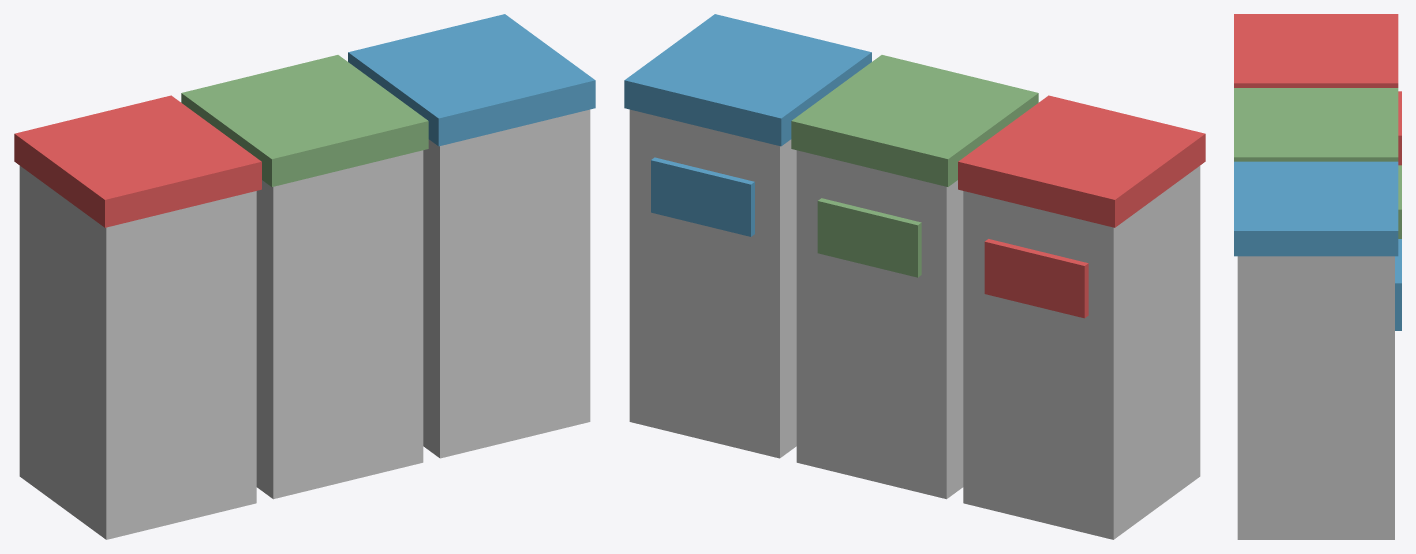
Rendered from TrashBins.fbx.
3 renders of one model, left to right at view 1: azimuth 30°, elevation 25°; view 2: azimuth 150°, elevation 25°; view 3: azimuth 270°, elevation 25°, orthographic. The views are drawn at different scales.
Visible parts, largest first — view 1: TrashBins_Mesh; view 2: TrashBins_Mesh; view 3: TrashBins_Mesh.
Boxes of the visible parts, left/top/right/bottom form: TrashBins_Mesh: left=14, top=14, right=595, bottom=539; TrashBins_Mesh: left=624, top=14, right=1205, bottom=539; TrashBins_Mesh: left=1234, top=14, right=1401, bottom=539.
Size of the model in its own units: 1.47 by 0.48 by 0.98.
